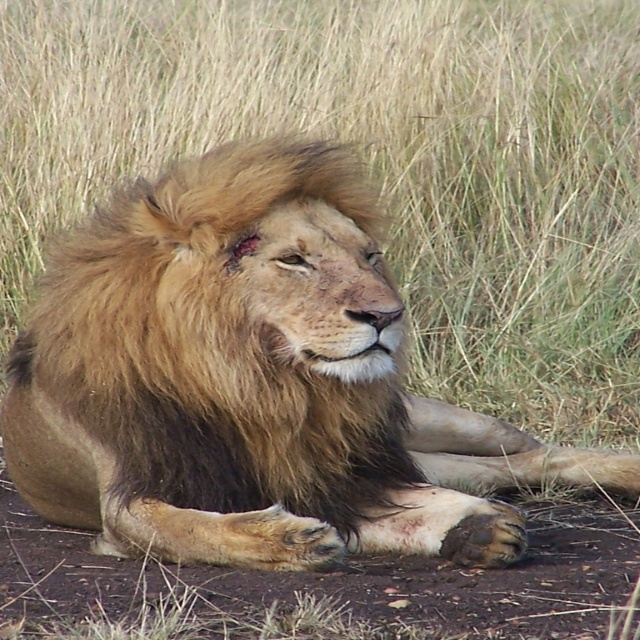Lion: (0, 128, 640, 573)
